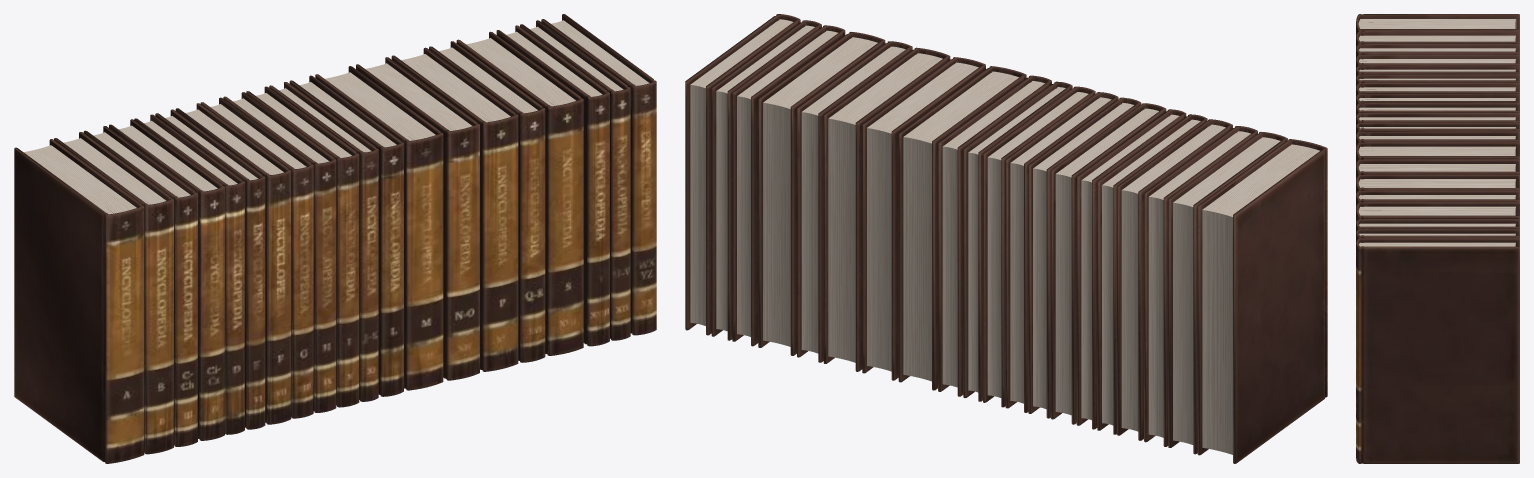
File: book_encyclopedia_set_01.glb
The picture shows the model from 3 angles, left to right: view 1: azimuth 30°, elevation 25°; view 2: azimuth 150°, elevation 25°; view 3: azimuth 270°, elevation 25°; orthographic projection. The views are drawn at different scales.
Visible parts, largest first — view 1: book_encyclopedia_set_01_book01; view 2: book_encyclopedia_set_01_book01; view 3: book_encyclopedia_set_01_book01.
Part boxes in pixels (box(x1,y1,x2,y2)): book_encyclopedia_set_01_book01: box(14, 14, 656, 463); book_encyclopedia_set_01_book01: box(685, 14, 1327, 463); book_encyclopedia_set_01_book01: box(1356, 14, 1519, 463).
Bounding box in the file's own units: 0.5513 × 0.2374 × 0.1631.
2 materials, 2 textured.
